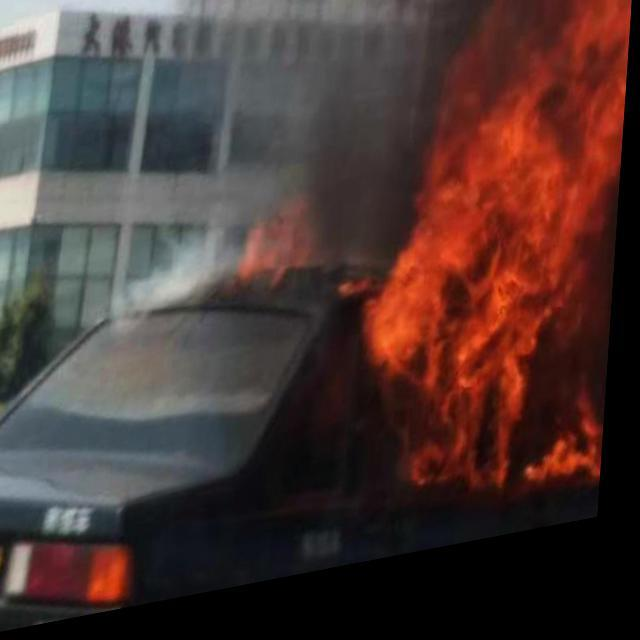Fire: (366, 0, 636, 540), (240, 201, 320, 314)
